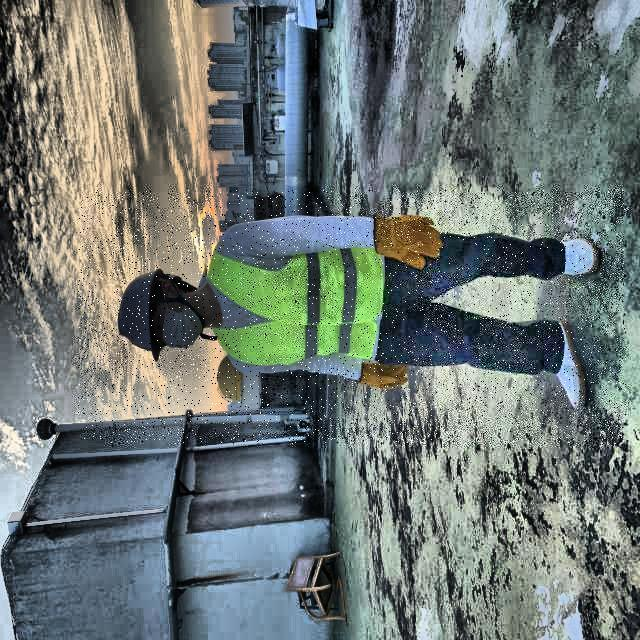safety_helmet: (111, 267, 173, 366)
safety_jacket: (207, 244, 385, 362)
